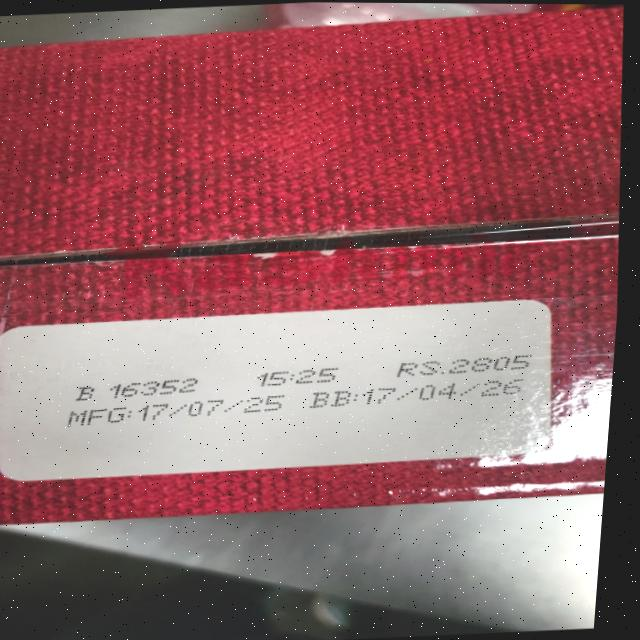BB: (314, 376, 533, 412)
Batch: (70, 373, 207, 404)
MFG: (66, 397, 304, 428)
RS: (396, 352, 535, 380)
TimeStamp: (251, 362, 351, 392)
